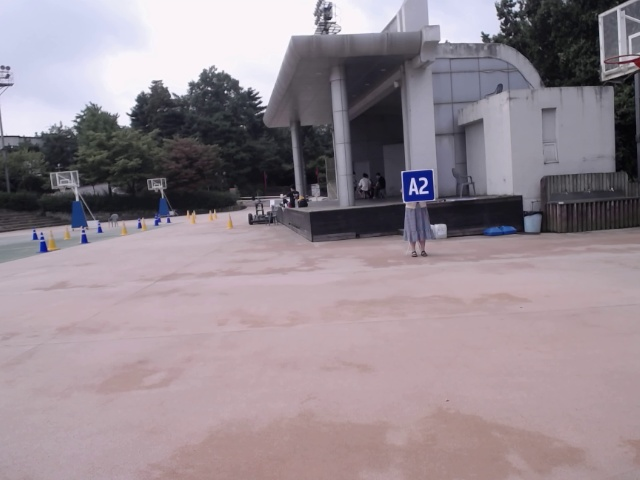delivery_a2: (401, 169, 435, 203)
